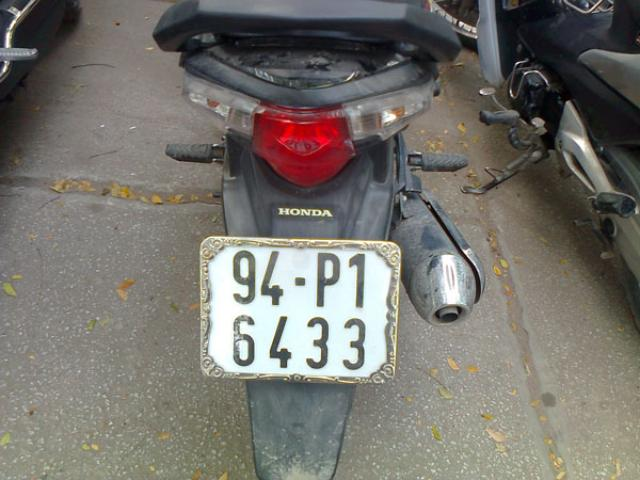plate: (207, 237, 393, 379)
